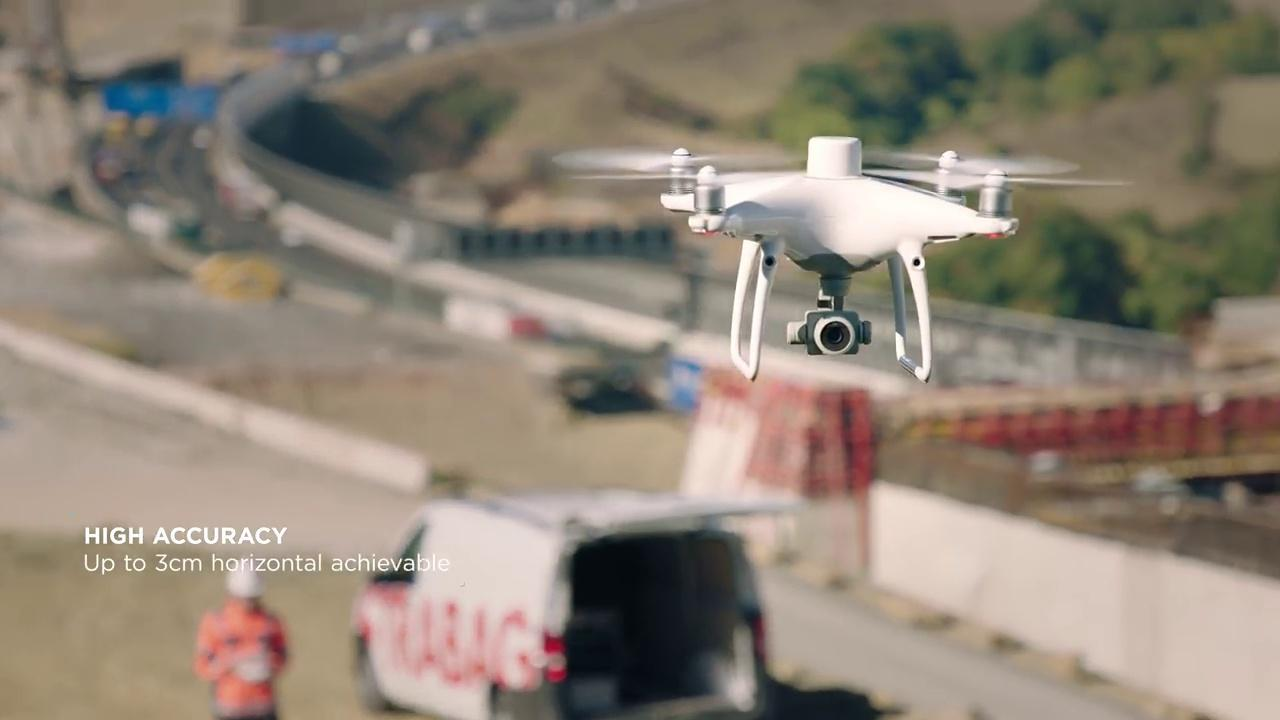drone: (548, 131, 1139, 388)
